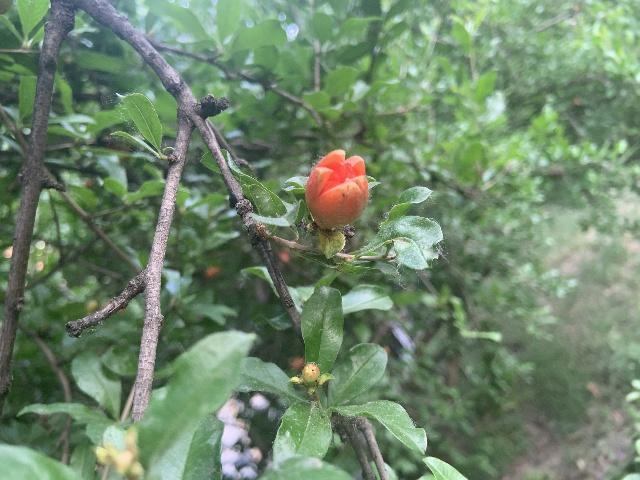bud: (301, 363, 319, 385)
flower: (304, 149, 369, 228)
